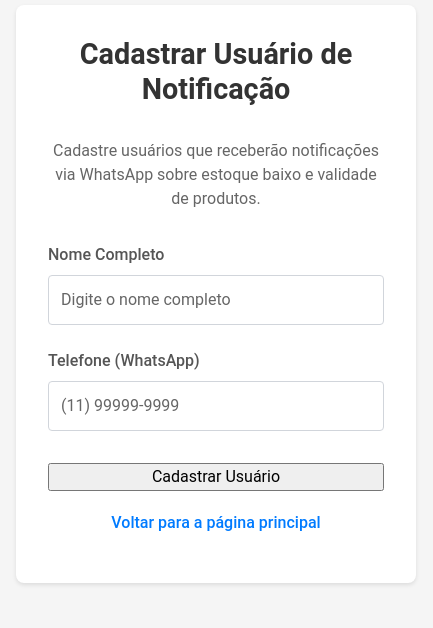
Test: NotificationUserRegister › deve validar telefone obrigatório
This screenshot has width=433, height=628.
Type "João Silva" into the field labelled "Nome Completo".
click(216, 300); type("João Silva")  # box [48,274,384,324]
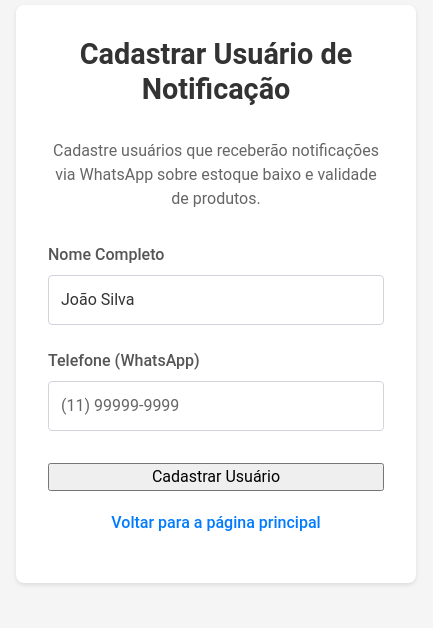
Click the button "Cadastrar Usuário".
click(216, 476)  # box [48,462,384,490]
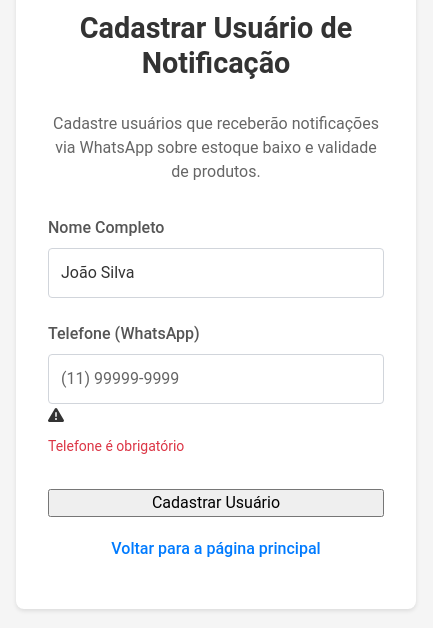
Check: the text "Telefone é obrigatório" is shown, box [48,438,184,454]
